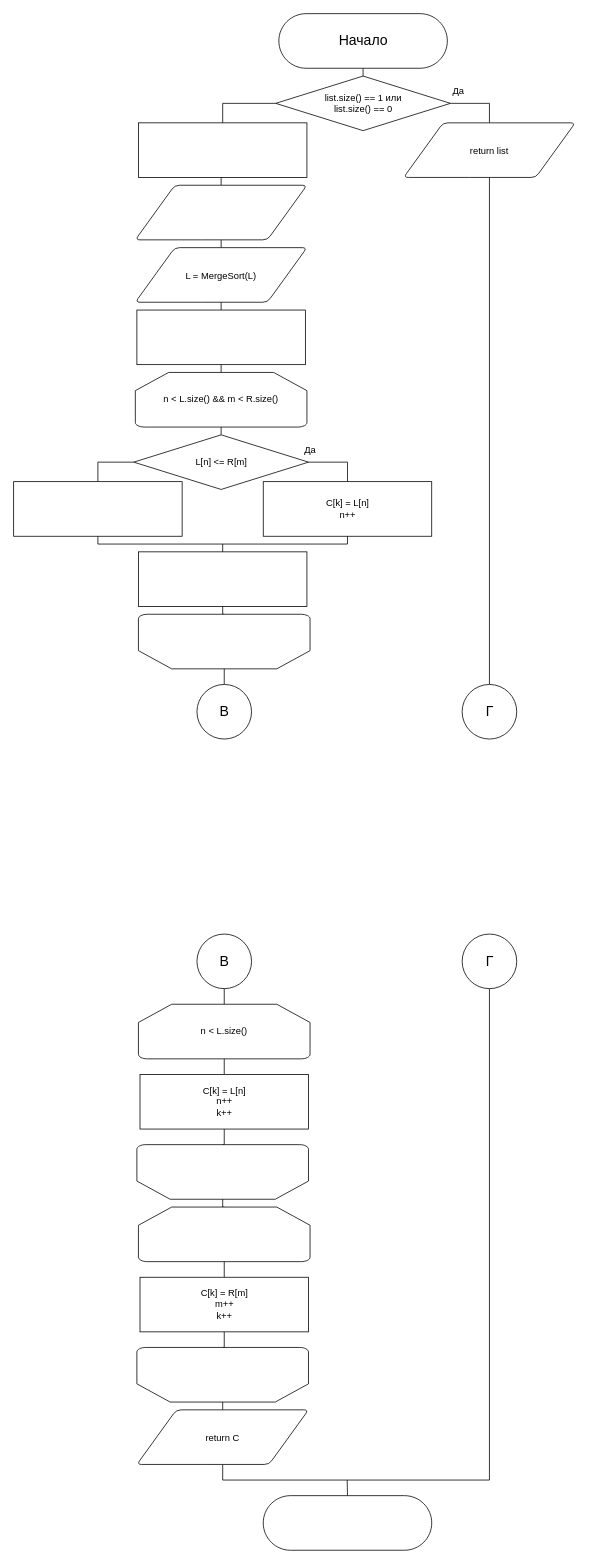
The diagram is 589 pixels wide and 1564 high, and some of its shapes have lost their labels. The centre of each missing label's shape, as x and y in pixels:
"C[k] = R[m] m++" belongs at pixel 97 508.
"k++" belongs at pixel 222 578.
"m < R.size()" belongs at pixel 224 1234.
"R = MergeSort(R)" belongs at pixel 221 212.
"size_t middle = list.size()/2 vector<int> L = list; vector<int> R = list;" belongs at pixel 222 149.
"size_t n = 0, m = 0, k = 0 vector<int> C(L.size() + R.size()) = {0}" belongs at pixel 220 337.
"Конец" belongs at pixel 347 1522.
